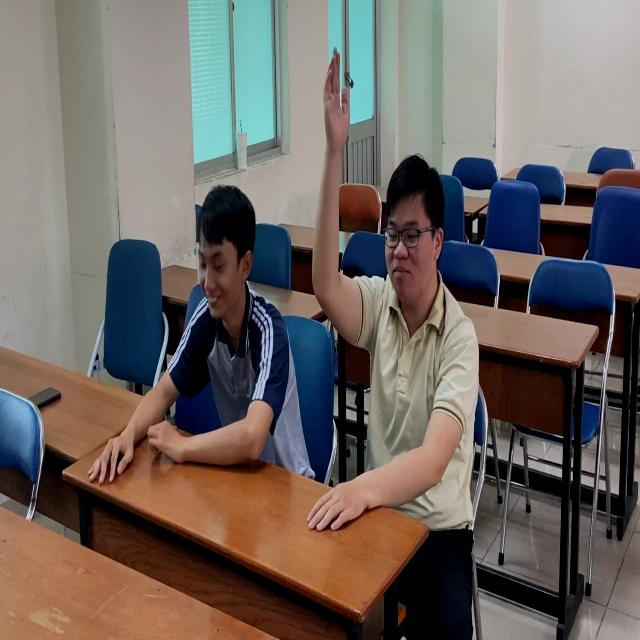raise_hand: (294, 39, 482, 544)
